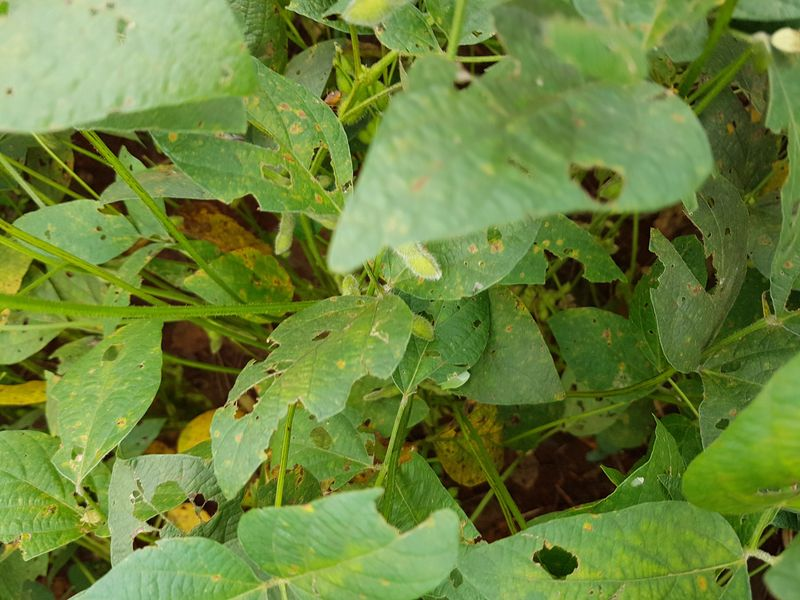Euschistus_heros_adulto: (317, 84, 348, 111)
Euschistus_heros_ninfa: (72, 501, 110, 534)
Nezara_viridula_adulto: (427, 357, 478, 405)
